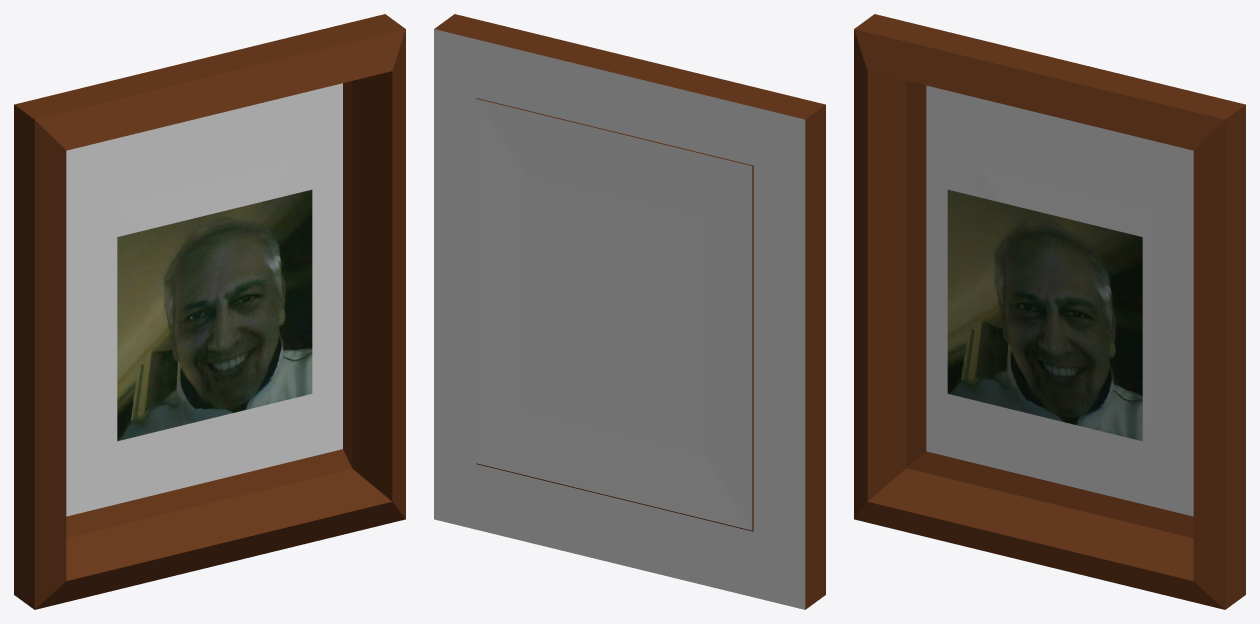
File: Picture 2.fbx
3 views of the same model, side by side, from view 1: azimuth 30°, elevation 25°; view 2: azimuth 150°, elevation 25°; view 3: azimuth 330°, elevation 25° (orthographic).
Parts seen in each view (by area): view 1: Cube, Plane; view 2: Cube; view 3: Cube, Plane.
Part boxes in pixels (<box>): Cube: <box>14,14,405,609</box>; Plane: <box>117,189,312,441</box>; Cube: <box>434,14,825,609</box>; Cube: <box>854,14,1245,609</box>; Plane: <box>947,189,1142,441</box>.
Size of the model in its own units: 380 by 480 by 53.24.
